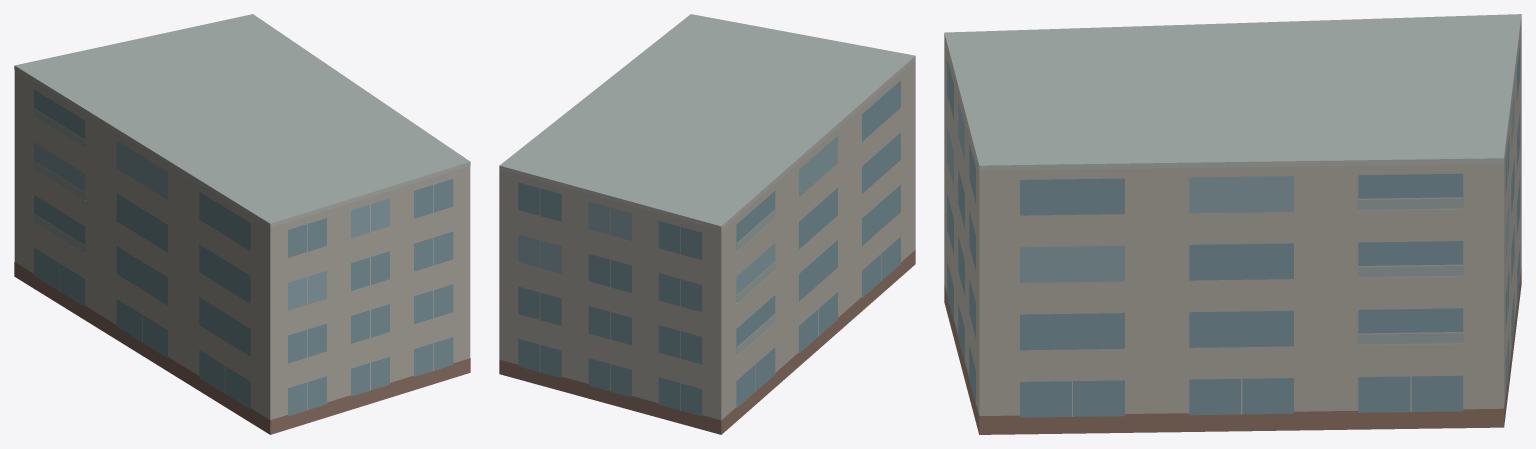
Rendered from residential-438f246e-9e1c-436f-81f9-7502b6d37bfa.glb.
3 views of the same model, side by side, from view 1: azimuth 30°, elevation 25°; view 2: azimuth 150°, elevation 25°; view 3: azimuth 270°, elevation 25° (orthographic). The views are drawn at different scales.
Parts seen in each view (by area): view 1: residential-438f246e-9e1c-436f-81f9-7502b6d37bfa.tmp; view 2: residential-438f246e-9e1c-436f-81f9-7502b6d37bfa.tmp; view 3: residential-438f246e-9e1c-436f-81f9-7502b6d37bfa.tmp.
Part boxes in pixels (x1,y1,x2,y2): residential-438f246e-9e1c-436f-81f9-7502b6d37bfa.tmp: (14,14,470,434); residential-438f246e-9e1c-436f-81f9-7502b6d37bfa.tmp: (499,14,915,434); residential-438f246e-9e1c-436f-81f9-7502b6d37bfa.tmp: (944,14,1521,434).
Bounding box in the file's own units: 14.73 × 12.2 × 23.71.
